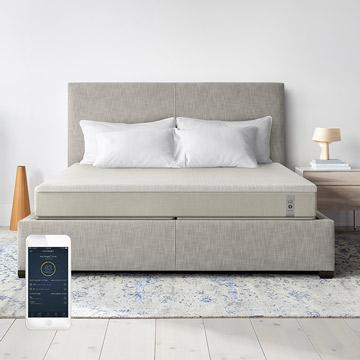bed: (16, 62, 342, 299)
